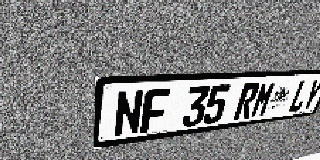3: (181, 86, 211, 128)
5: (202, 84, 231, 125)
F: (140, 88, 171, 134)
L: (287, 80, 313, 113)
M: (249, 82, 277, 118)
N: (113, 89, 144, 137)
R: (233, 83, 261, 121)
Y: (300, 79, 320, 111)
